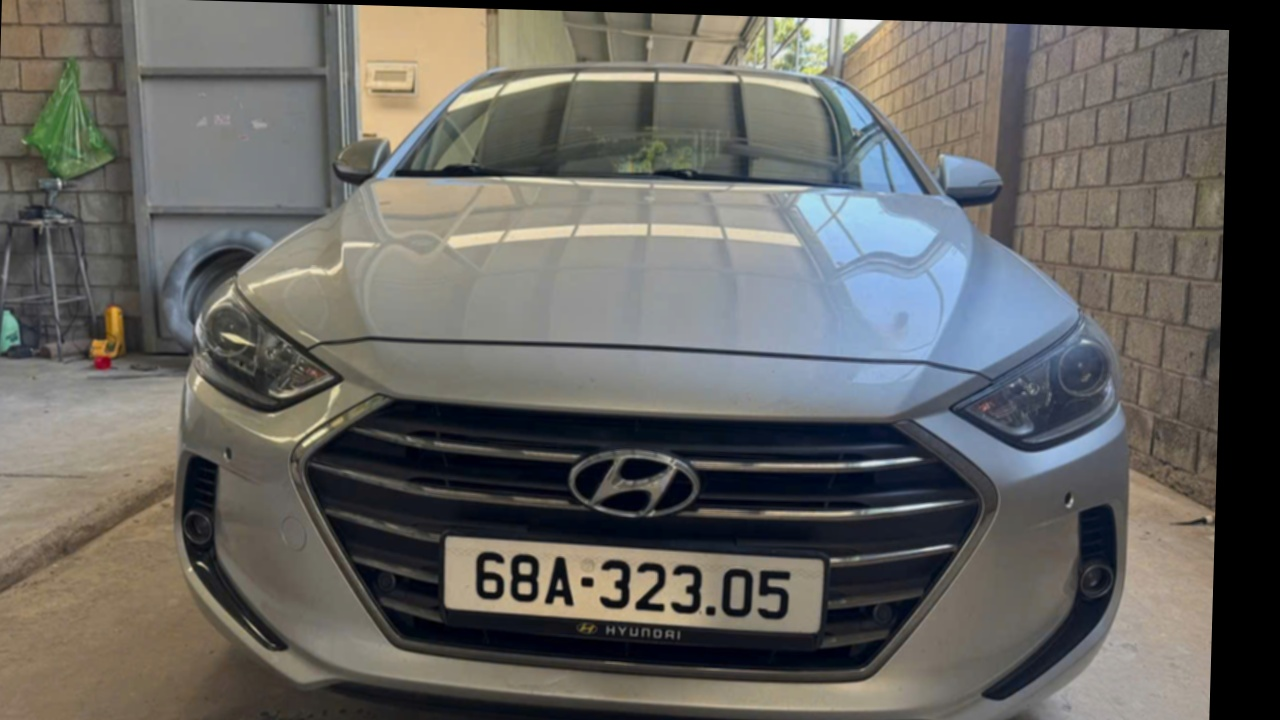Bien-so: (469, 513, 851, 606)
